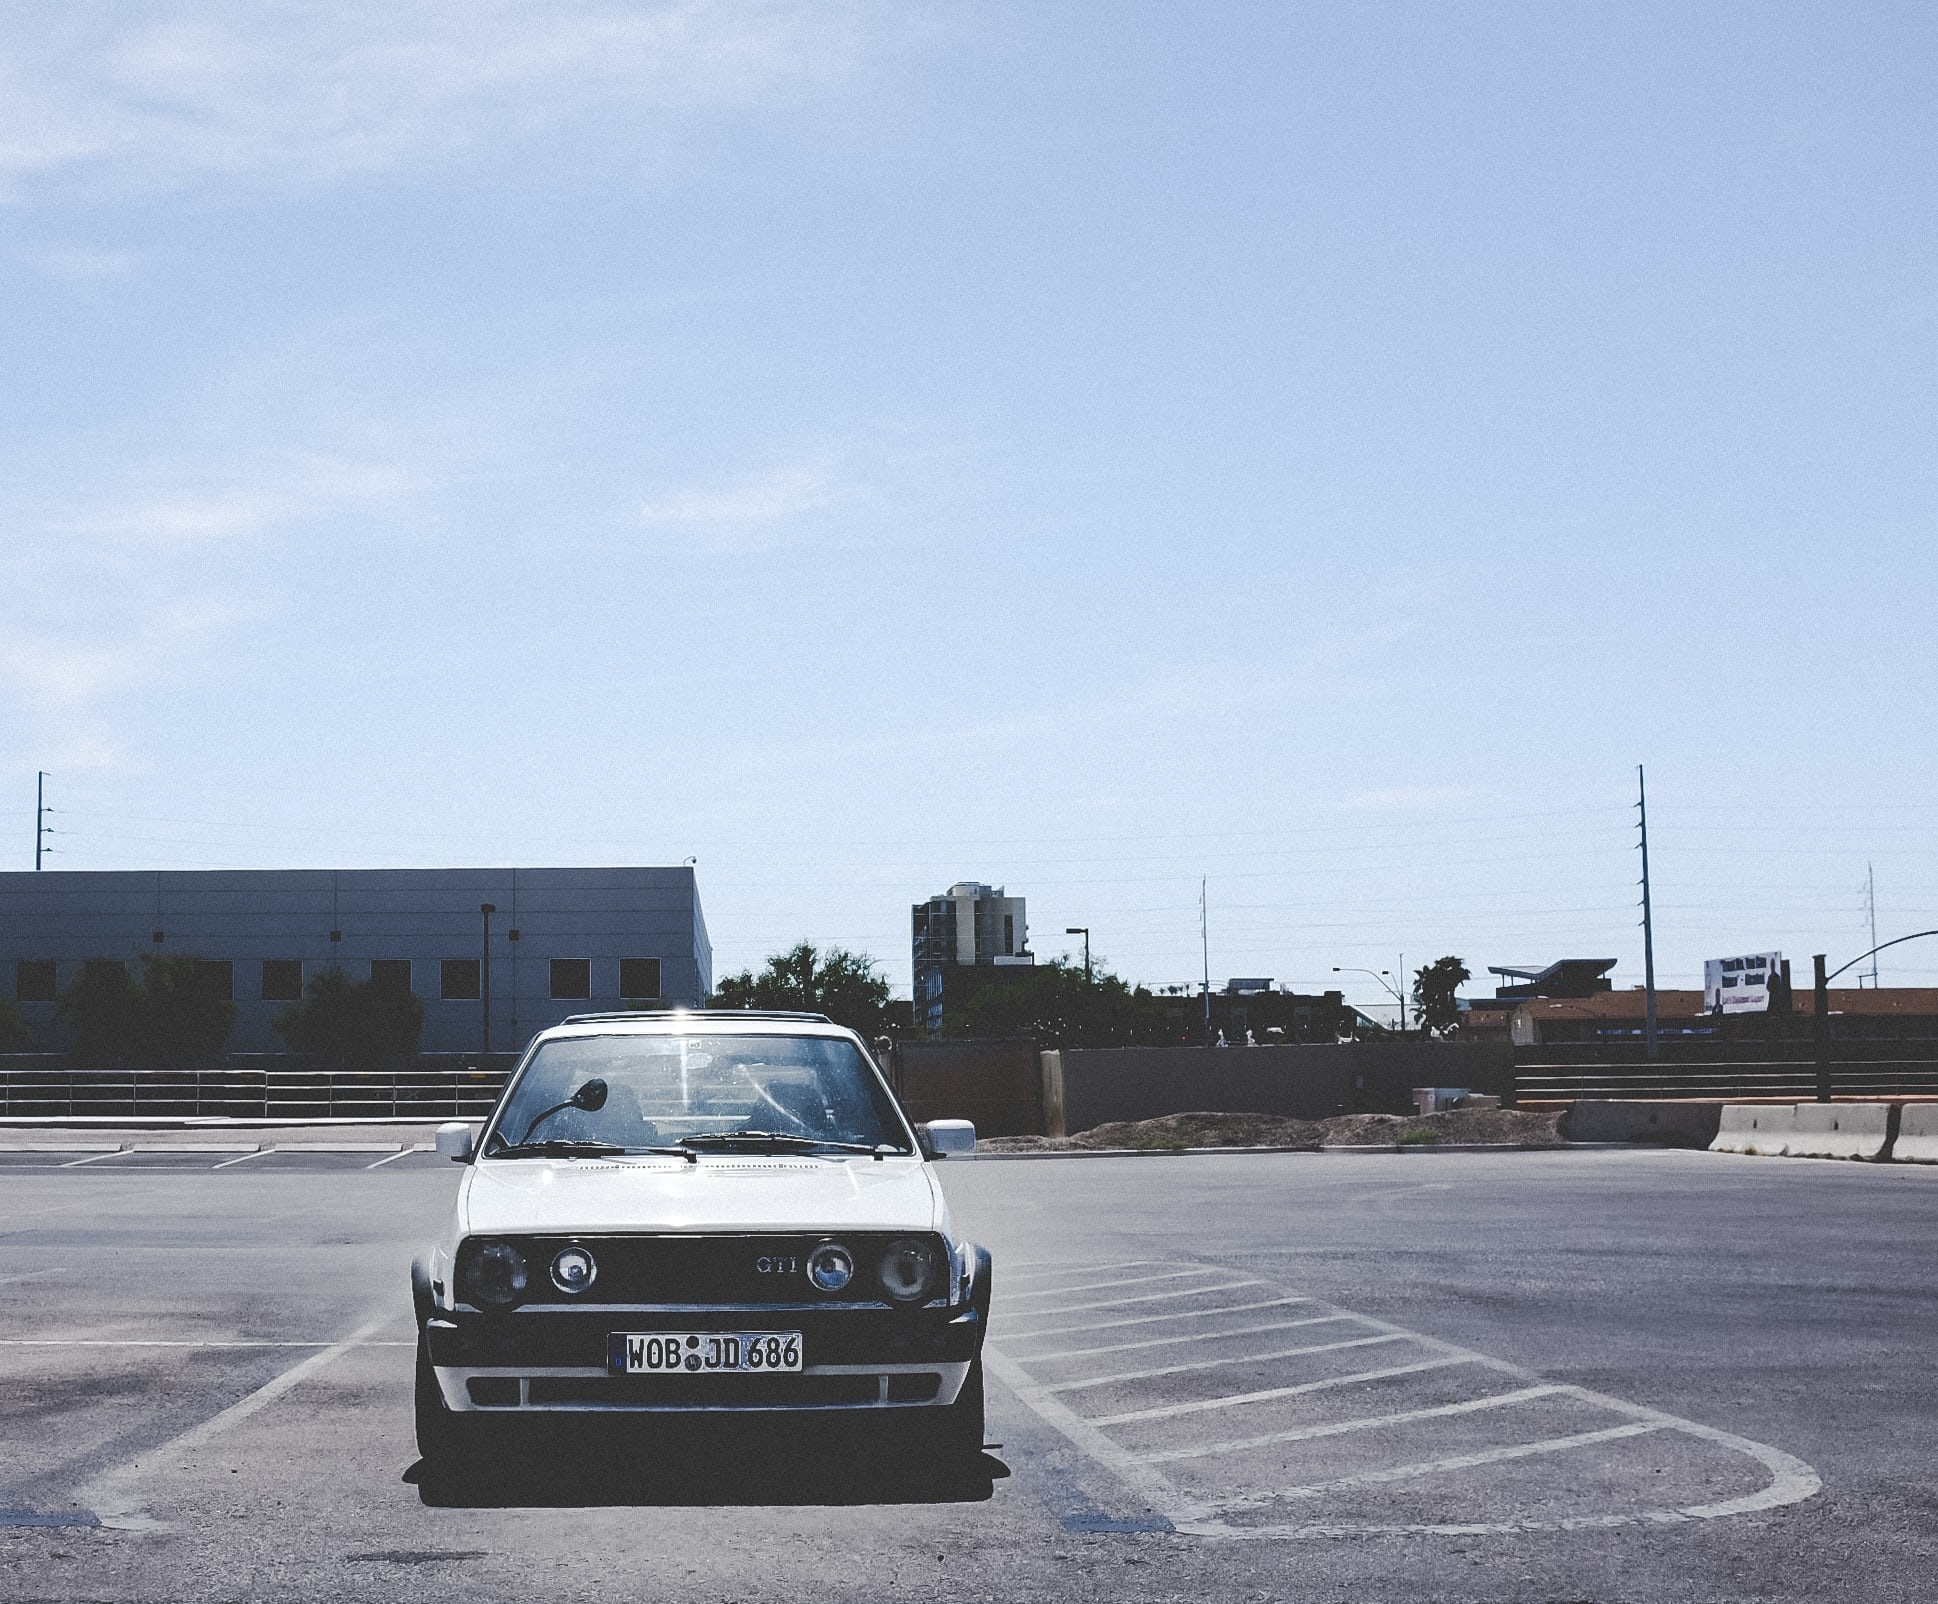plaka: (605, 1330, 805, 1377)
